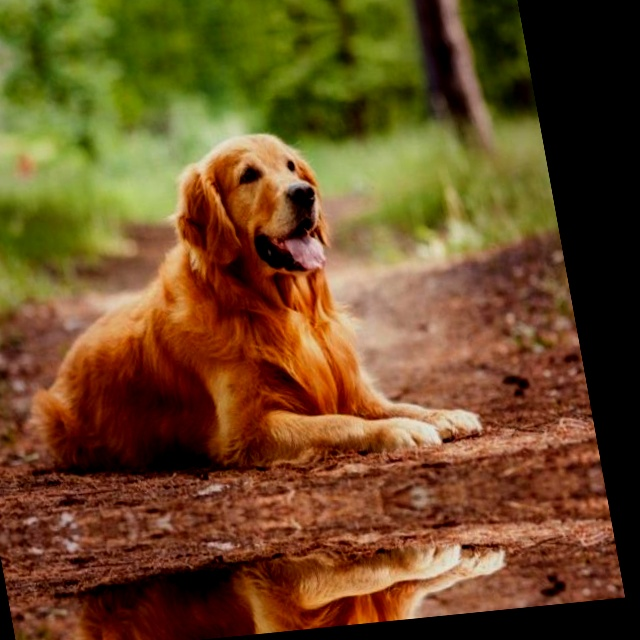dog: (0, 115, 502, 500), (52, 521, 530, 640)
